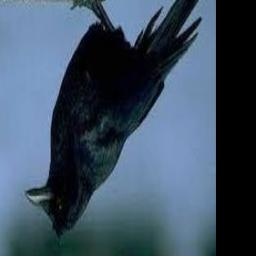Crow: (26, 0, 208, 236)
